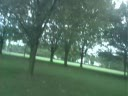window: (95, 11, 104, 50)
